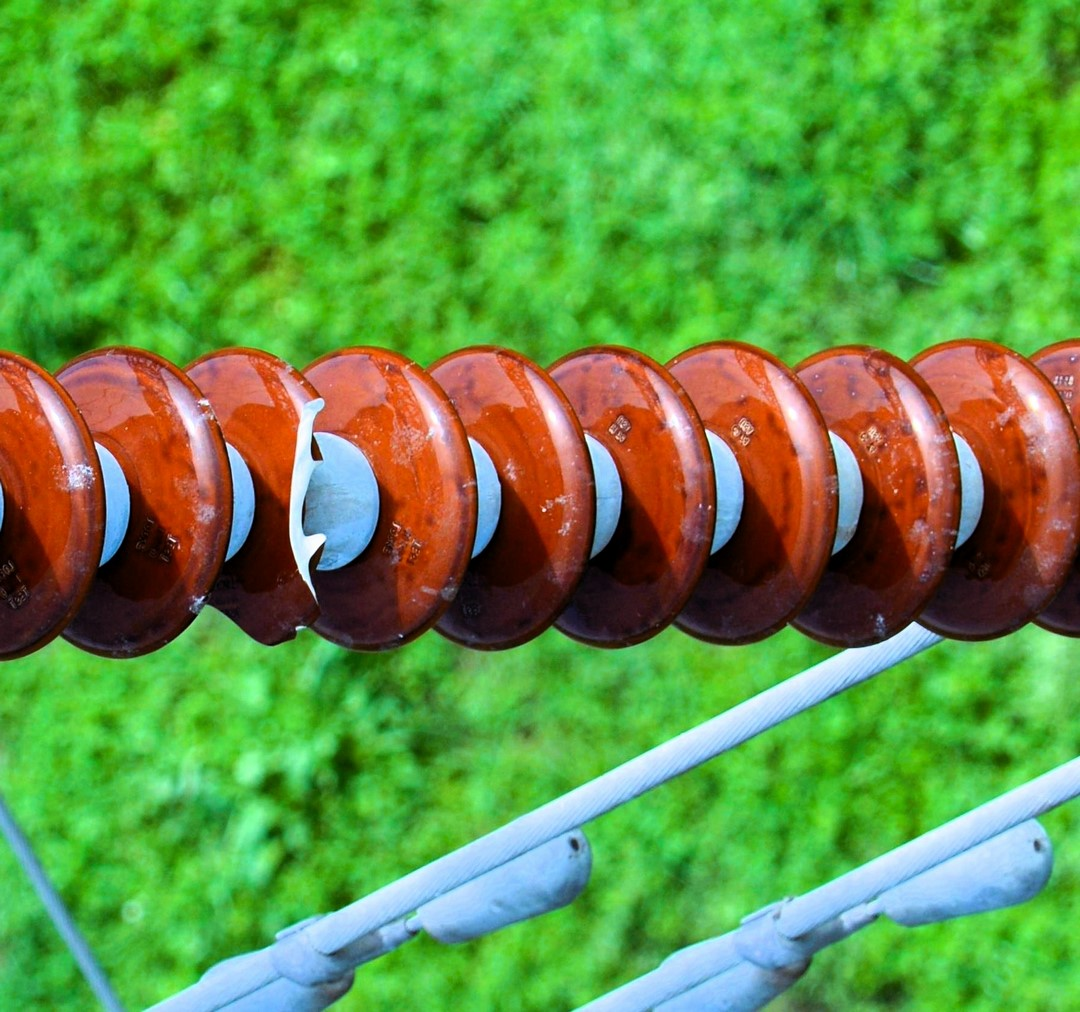insulator breakage: (169, 339, 337, 657)
